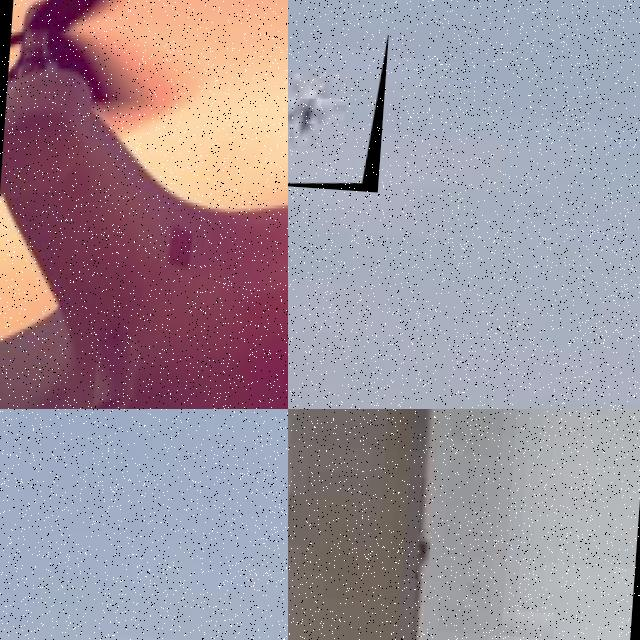drone: (0, 0, 288, 409), (288, 26, 388, 192)
